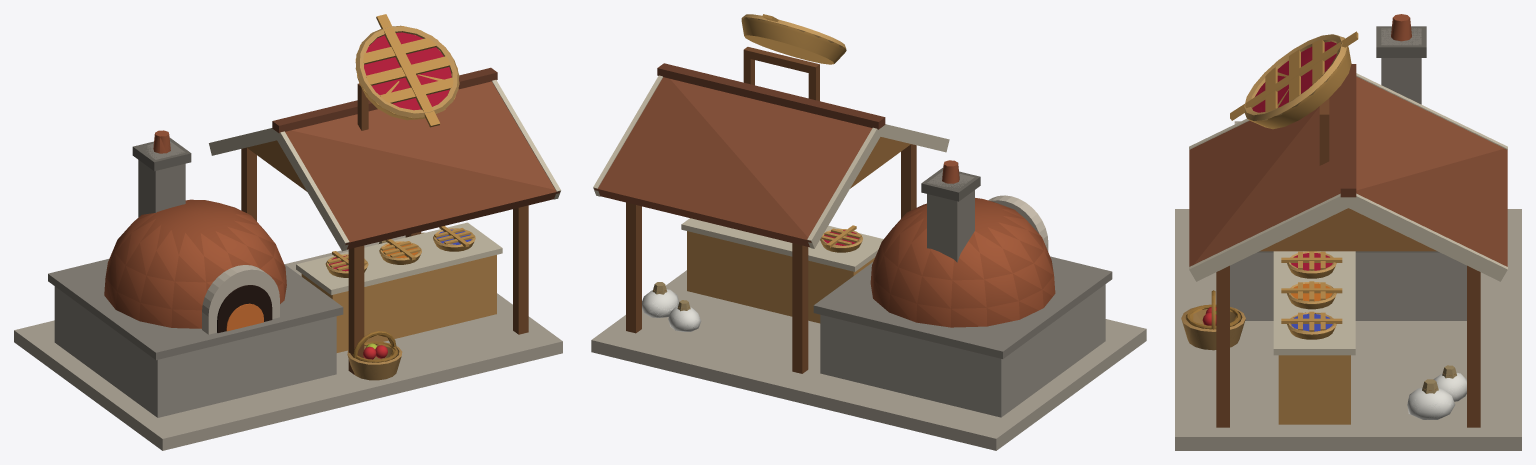
The model's file is pie_oven.glb.
3 renders of one model, left to right at view 1: azimuth 30°, elevation 25°; view 2: azimuth 150°, elevation 25°; view 3: azimuth 270°, elevation 25°, orthographic. The views are drawn at different scales.
Parts seen in each view (by area): view 1: building-pie_oven, building-pie_oven-far; view 2: building-pie_oven, building-pie_oven-far; view 3: building-pie_oven, building-pie_oven-far.
Boxes of the visible parts, x1=… form: building-pie_oven: x1=14, y1=14, x2=562, y2=450; building-pie_oven-far: x1=157, y1=49, x2=473, y2=377; building-pie_oven: x1=591, y1=14, x2=1146, y2=450; building-pie_oven-far: x1=644, y1=160, x2=1038, y2=330; building-pie_oven: x1=1175, y1=14, x2=1521, y2=450; building-pie_oven-far: x1=1184, y1=14, x2=1466, y2=419.
Bounding box in the file's own units: 5.68 × 4.1 × 3.6.
